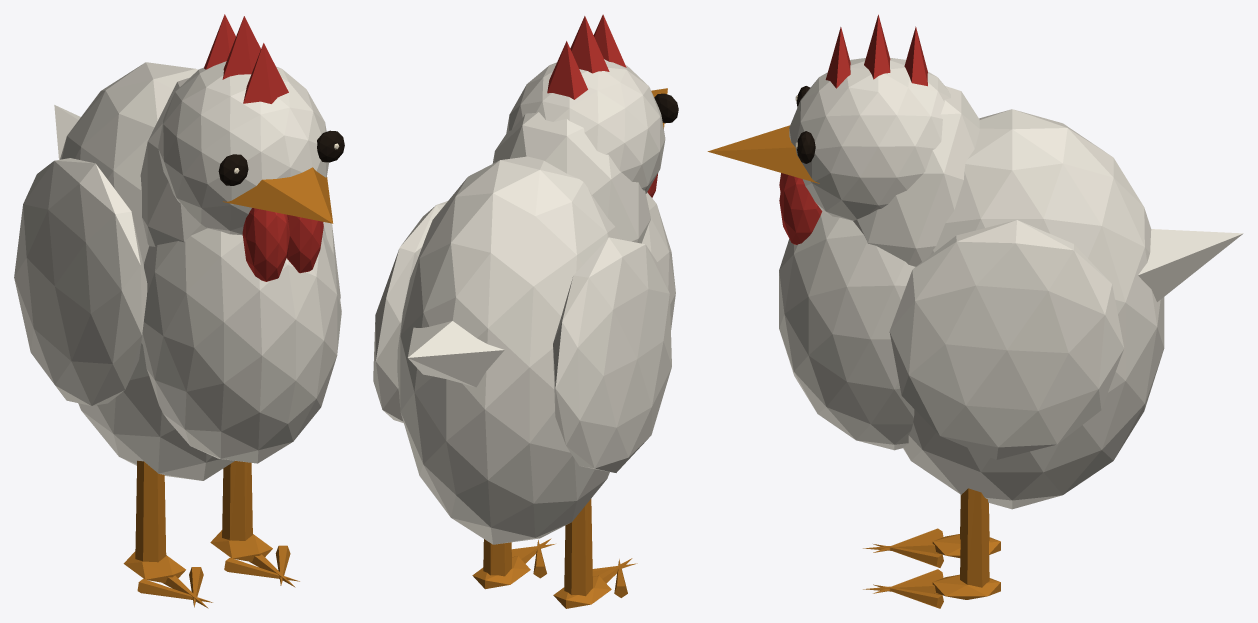
The model's file is low-poly-chicken.glb.
3 views of the same model, side by side, from view 1: azimuth 30°, elevation 25°; view 2: azimuth 150°, elevation 25°; view 3: azimuth 270°, elevation 25° (orthographic). The views are drawn at different scales.
Parts seen in each view (by area): view 1: chicken-breast-mesh, chicken-wing-left-mesh, chicken-head-mesh, chicken-body-mesh, chicken-neck-mesh, chicken-beak-mesh, chicken-leg-left-shaft-mesh, chicken-wattle-left-mesh, chicken-leg-right-shaft-mesh, chicken-wattle-right-mesh, chicken-comb-3-mesh, chicken-comb-2-mesh (+8 smaller); view 2: chicken-body-mesh, chicken-wing-left-mesh, chicken-head-mesh, chicken-neck-mesh, chicken-wing-right-mesh, chicken-tail-mesh, chicken-leg-left-shaft-mesh, chicken-breast-mesh, chicken-comb-1-mesh, chicken-comb-2-mesh, chicken-leg-right-shaft-mesh, chicken-leg-right-palm-mesh (+3 smaller); view 3: chicken-wing-right-mesh, chicken-body-mesh, chicken-breast-mesh, chicken-head-mesh, chicken-neck-mesh, chicken-tail-mesh, chicken-leg-right-shaft-mesh, chicken-beak-mesh, chicken-wattle-right-mesh, chicken-leg-right-palm-mesh, chicken-comb-2-mesh, chicken-comb-3-mesh (+1 smaller).
Boxes of the visible parts, left/top/right/bottom form: chicken-breast-mesh: left=141, top=228, right=341, bottom=463; chicken-wing-left-mesh: left=14, top=158, right=147, bottom=405; chicken-head-mesh: left=158, top=61, right=328, bottom=235; chicken-body-mesh: left=60, top=62, right=234, bottom=480; chicken-neck-mesh: left=140, top=77, right=207, bottom=246; chicken-beak-mesh: left=223, top=167, right=333, bottom=223; chicken-leg-left-shaft-mesh: left=135, top=460, right=166, bottom=562; chicken-wattle-left-mesh: left=242, top=208, right=289, bottom=281; chicken-leg-right-shaft-mesh: left=222, top=461, right=252, bottom=540; chicken-wattle-right-mesh: left=286, top=215, right=323, bottom=273; chicken-comb-3-mesh: left=243, top=43, right=288, bottom=103; chicken-comb-2-mesh: left=222, top=16, right=260, bottom=79; chicken-body-mesh: left=397, top=156, right=621, bottom=544; chicken-wing-left-mesh: left=553, top=237, right=671, bottom=472; chicken-head-mesh: left=506, top=59, right=665, bottom=193; chicken-neck-mesh: left=492, top=112, right=650, bottom=243; chicken-wing-right-mesh: left=373, top=201, right=447, bottom=423; chicken-tail-mesh: left=407, top=321, right=504, bottom=387; chicken-leg-left-shaft-mesh: left=564, top=499, right=592, bottom=596; chicken-breast-mesh: left=641, top=192, right=675, bottom=329; chicken-comb-1-mesh: left=547, top=41, right=587, bottom=99; chicken-comb-2-mesh: left=570, top=16, right=609, bottom=73; chicken-leg-right-shaft-mesh: left=483, top=539, right=511, bottom=576; chicken-leg-right-palm-mesh: left=472, top=556, right=530, bottom=589; chicken-wing-right-mesh: left=889, top=220, right=1124, bottom=459; chicken-body-mesh: left=903, top=109, right=1164, bottom=509; chicken-breast-mesh: left=779, top=211, right=915, bottom=450; chicken-head-mesh: left=789, top=58, right=950, bottom=220; chicken-neck-mesh: left=853, top=86, right=979, bottom=266; chicken-tail-mesh: left=1138, top=229, right=1243, bottom=301; chicken-leg-right-shaft-mesh: left=960, top=488, right=989, bottom=587; chicken-beak-mesh: left=707, top=125, right=819, bottom=183; chicken-wattle-right-mesh: left=779, top=174, right=822, bottom=244; chicken-leg-right-palm-mesh: left=932, top=574, right=1000, bottom=599; chicken-comb-2-mesh: left=864, top=14, right=890, bottom=79; chicken-comb-3-mesh: left=825, top=27, right=850, bottom=88.
Size of the model in its own units: 0.4403 by 1 by 0.8662.
